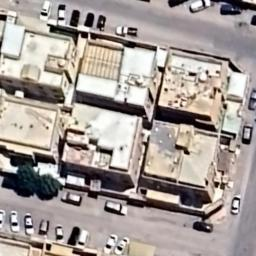SUV: (103, 200, 129, 216), (38, 0, 54, 22), (36, 216, 50, 241)
pickup: (114, 22, 138, 37)
sedan: (190, 218, 216, 236), (7, 209, 21, 235), (22, 212, 36, 238), (55, 2, 69, 26), (104, 232, 117, 256), (66, 224, 80, 246), (114, 235, 128, 256), (230, 192, 242, 216), (53, 222, 66, 244), (69, 8, 80, 28), (78, 226, 88, 248), (84, 12, 96, 30), (247, 88, 256, 111), (96, 15, 108, 31), (0, 208, 6, 234)
van: (60, 190, 84, 208), (219, 1, 244, 16), (189, 0, 212, 14)
